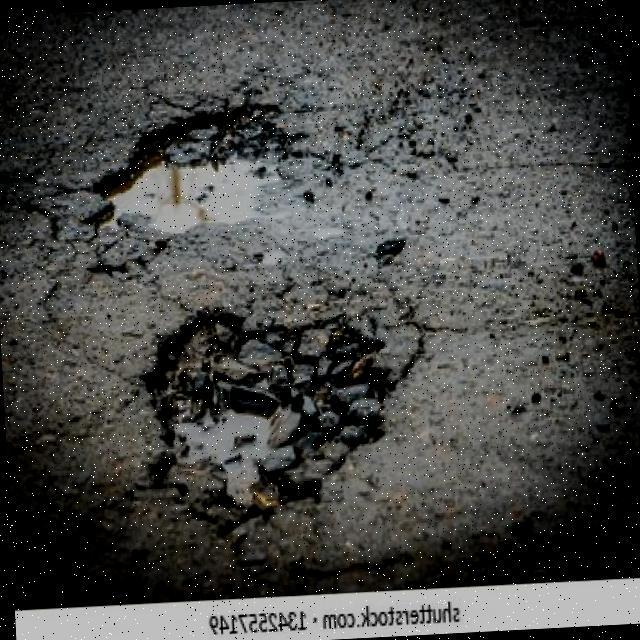Pothole: (146, 315, 384, 511), (100, 105, 313, 238)
